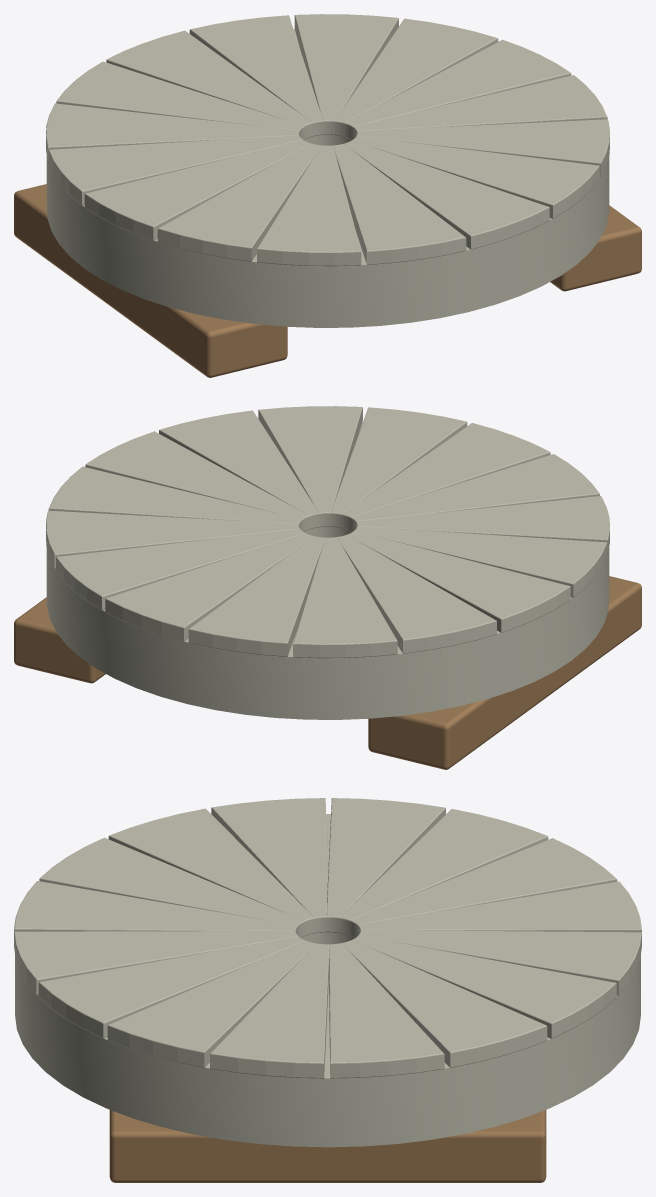
The model's file is bed-millstone.glb.
The picture shows the model from 3 angles, top to bottom: view 1: azimuth 30°, elevation 25°; view 2: azimuth 150°, elevation 25°; view 3: azimuth 270°, elevation 25°; orthographic projection. The views are drawn at different scales.
Visible parts, largest first — view 1: bed-millstone; view 2: bed-millstone; view 3: bed-millstone.
Boxes of the visible parts, <box> form: bed-millstone: <box>14,14,641,377</box>; bed-millstone: <box>14,406,641,769</box>; bed-millstone: <box>14,798,641,1182</box>.
Size of the model in its own units: 1.32 by 0.317 by 1.32.
